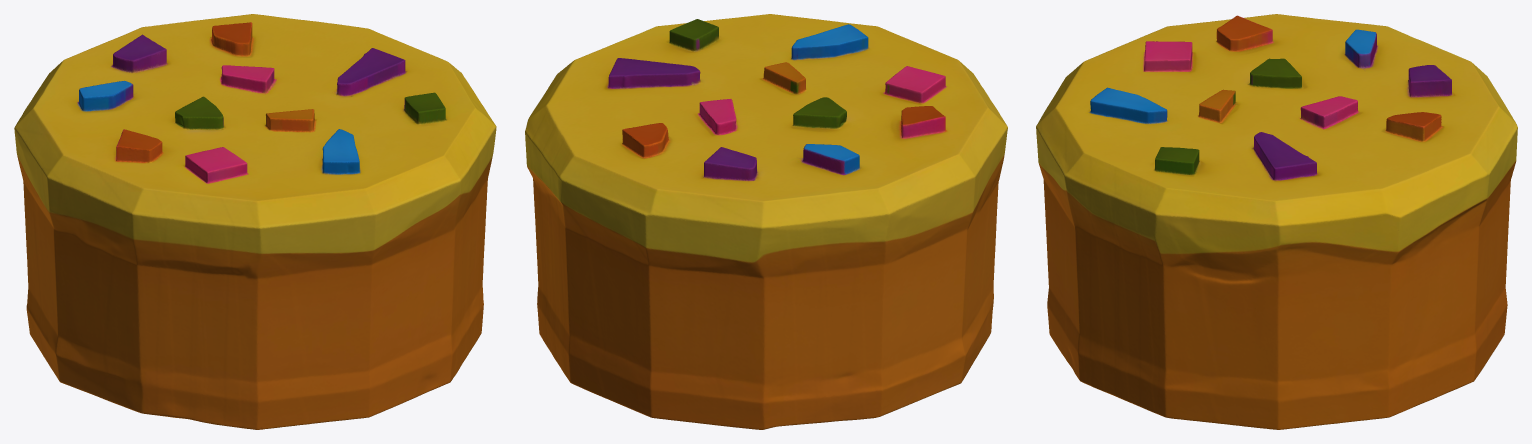
The model's file is cake vanilla 3d model.glb.
The picture shows the model from 3 angles, left to right: view 1: azimuth 30°, elevation 25°; view 2: azimuth 150°, elevation 25°; view 3: azimuth 270°, elevation 25°; orthographic projection.
Parts seen in each view (by area): view 1: tripo_node_9c0e021e-5554-4920-b4b7-8df5201b054c; view 2: tripo_node_9c0e021e-5554-4920-b4b7-8df5201b054c; view 3: tripo_node_9c0e021e-5554-4920-b4b7-8df5201b054c.
Boxes of the visible parts, x1,y1,x2,y2 form: tripo_node_9c0e021e-5554-4920-b4b7-8df5201b054c: (14, 14, 496, 429); tripo_node_9c0e021e-5554-4920-b4b7-8df5201b054c: (525, 14, 1007, 429); tripo_node_9c0e021e-5554-4920-b4b7-8df5201b054c: (1036, 14, 1517, 429).
Bounding box in the file's own units: 0.9967 × 0.5797 × 1.
1 material, 1 textured.
